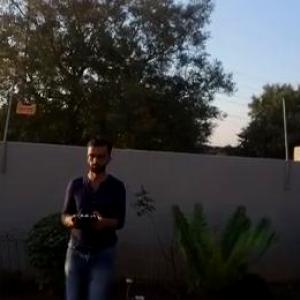follow: (56, 137, 132, 299)
